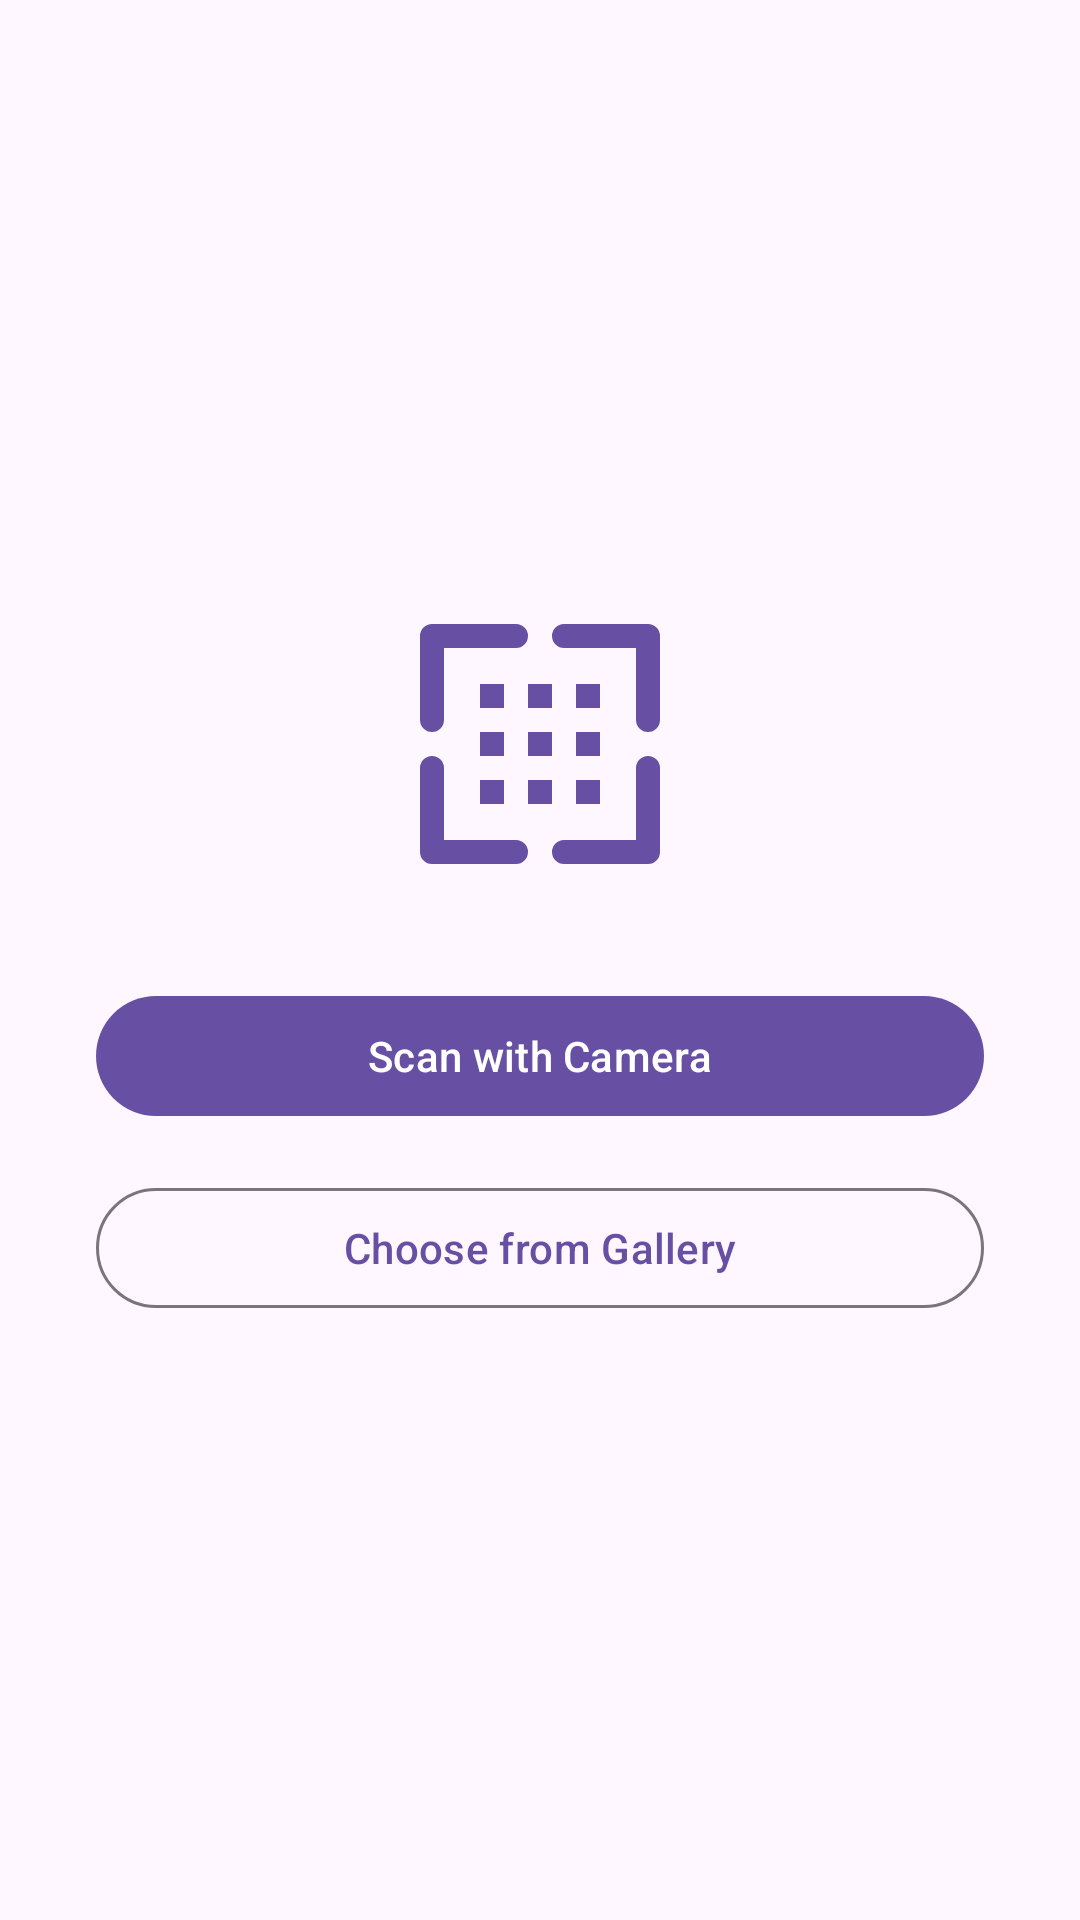

Where to tap for icons on this 1080*1920 app screen, as point (x, y):
qr scan: point (540, 744)
